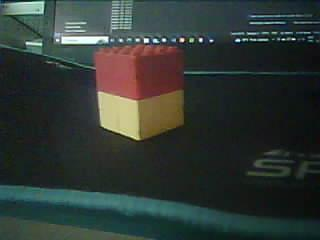lego: (93, 43, 186, 139)
